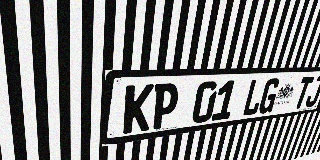0: (191, 81, 219, 124)
1: (211, 80, 238, 121)
G: (257, 78, 282, 114)
J: (304, 76, 320, 108)
K: (122, 84, 154, 134)
L: (241, 79, 267, 117)
P: (150, 83, 180, 130)
T: (292, 77, 314, 109)
